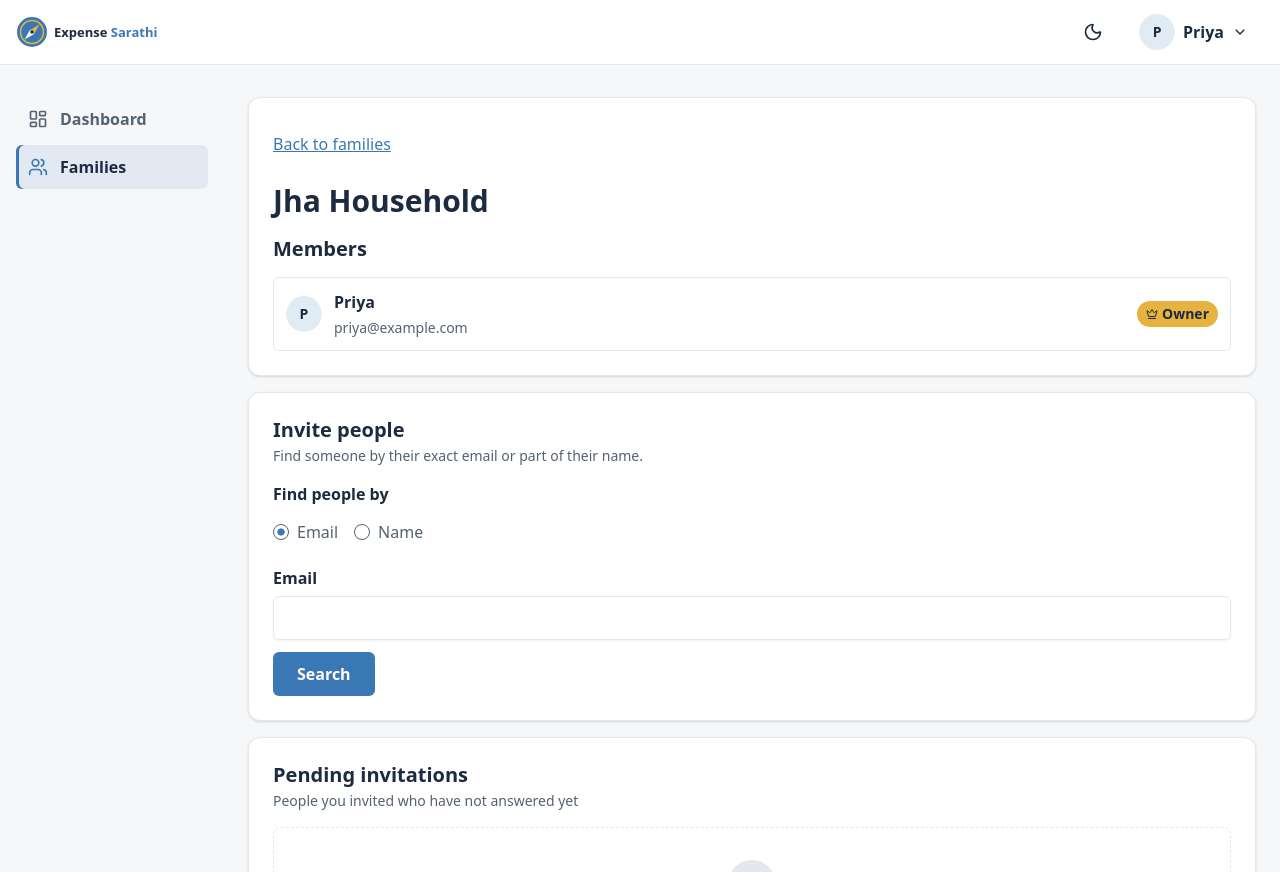
Test: Family detail page › asks the owner to narrow the search when there are more than 10 matches
The width and height of the screenshot is (1280, 872).
Click the 2nd radio button named "Name" at (362,532), box [354,524,370,540]
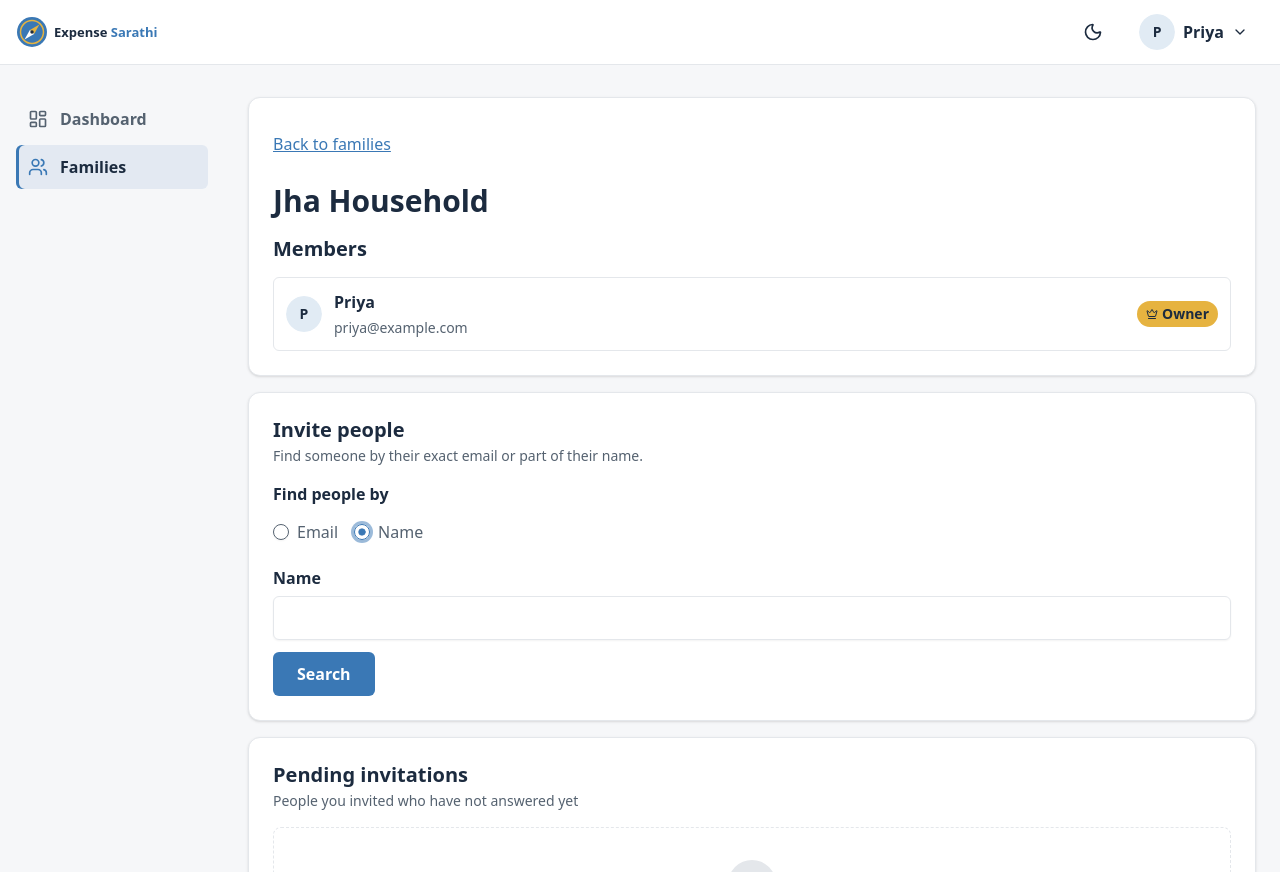
Type "sam" into the field labelled "Name" at (752,618), box [273,596,1231,640]
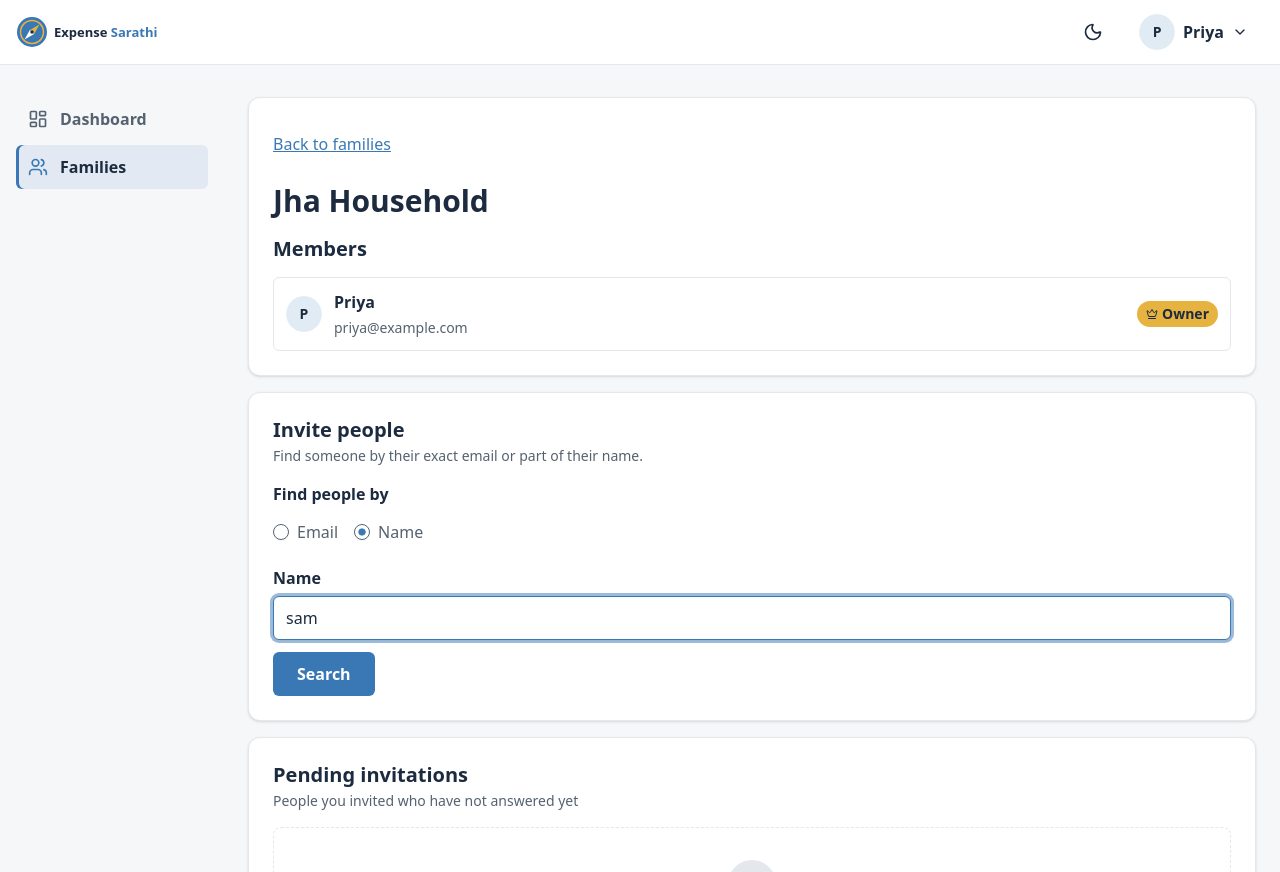
Click the button "Search" at (324,674), box [273,652,375,696]
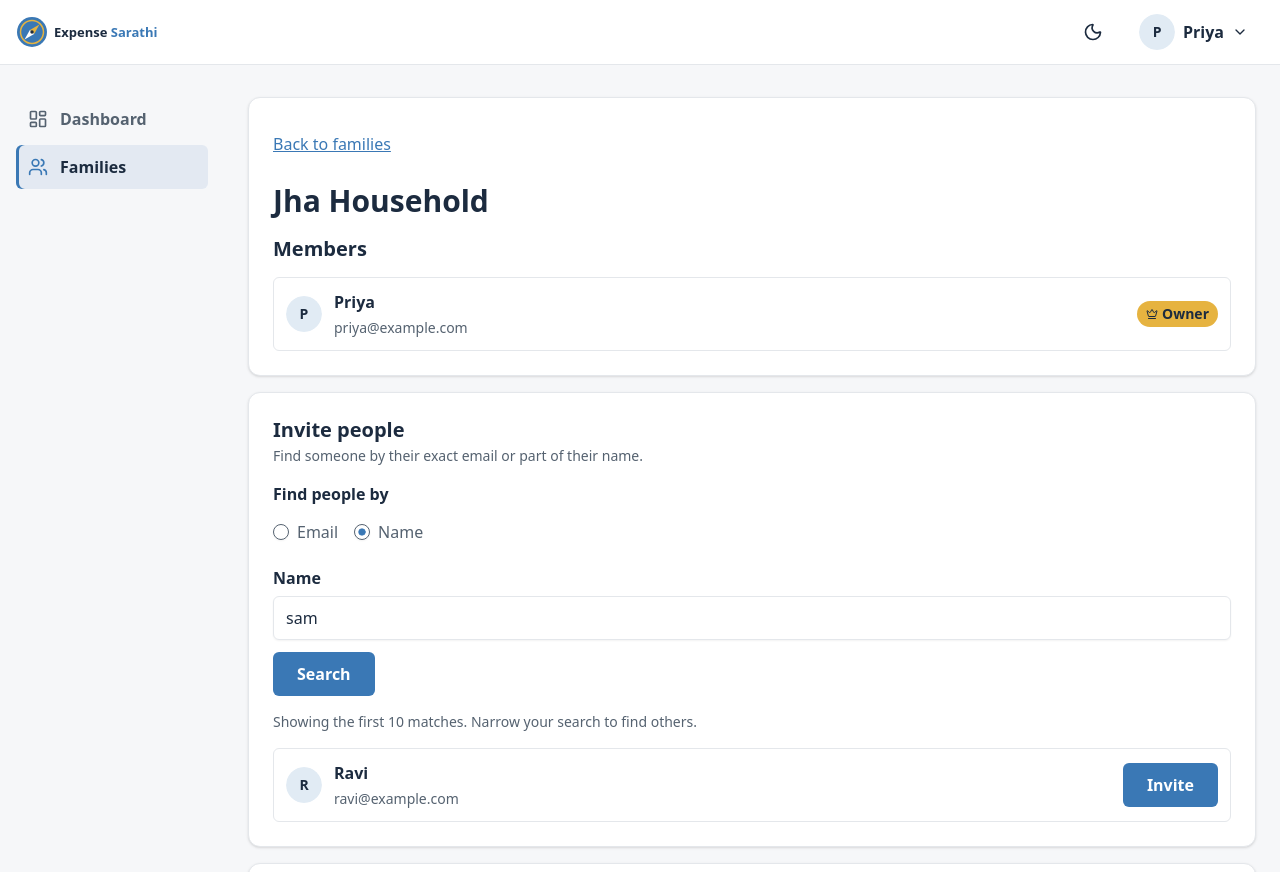
Now the text "Narrow your search" is shown, box [273,712,697,730]
